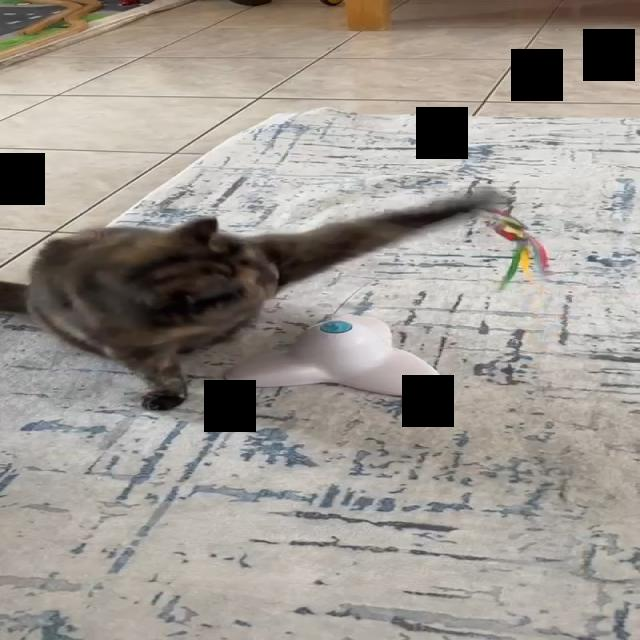authorized: (1, 187, 504, 411)
